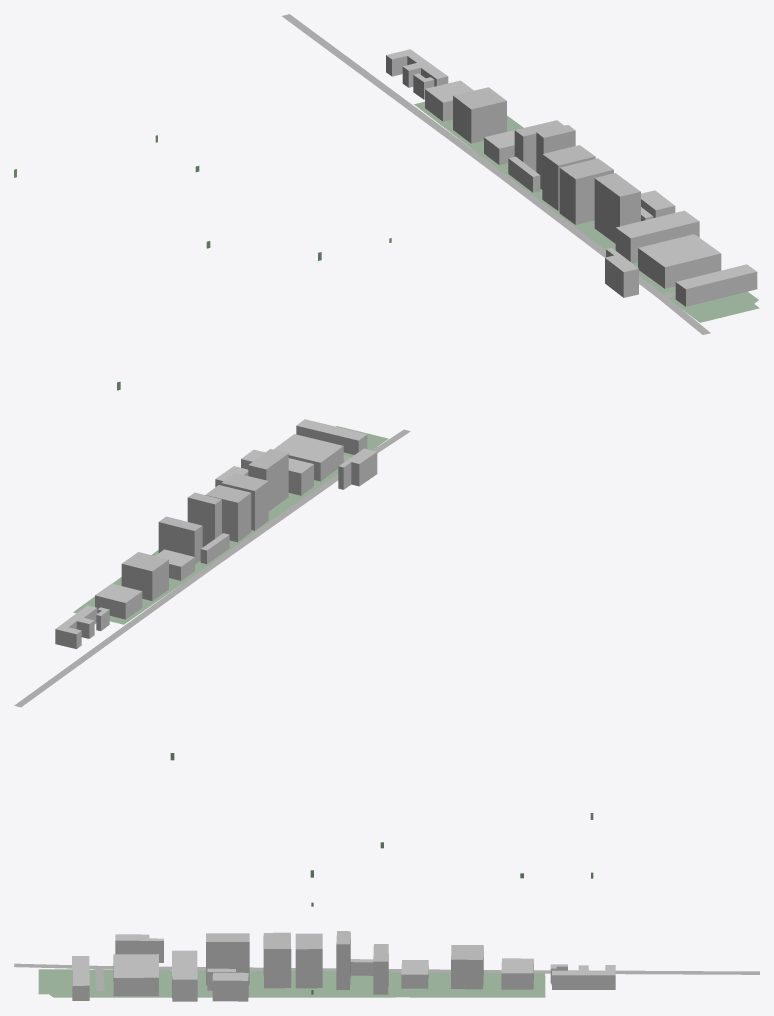
The picture shows the model from 3 angles, top to bottom: view 1: azimuth 30°, elevation 25°; view 2: azimuth 150°, elevation 25°; view 3: azimuth 270°, elevation 25°; orthographic projection. The views are drawn at different scales.
Bounding box in the file's own units: 495 × 45.35 × 640.
